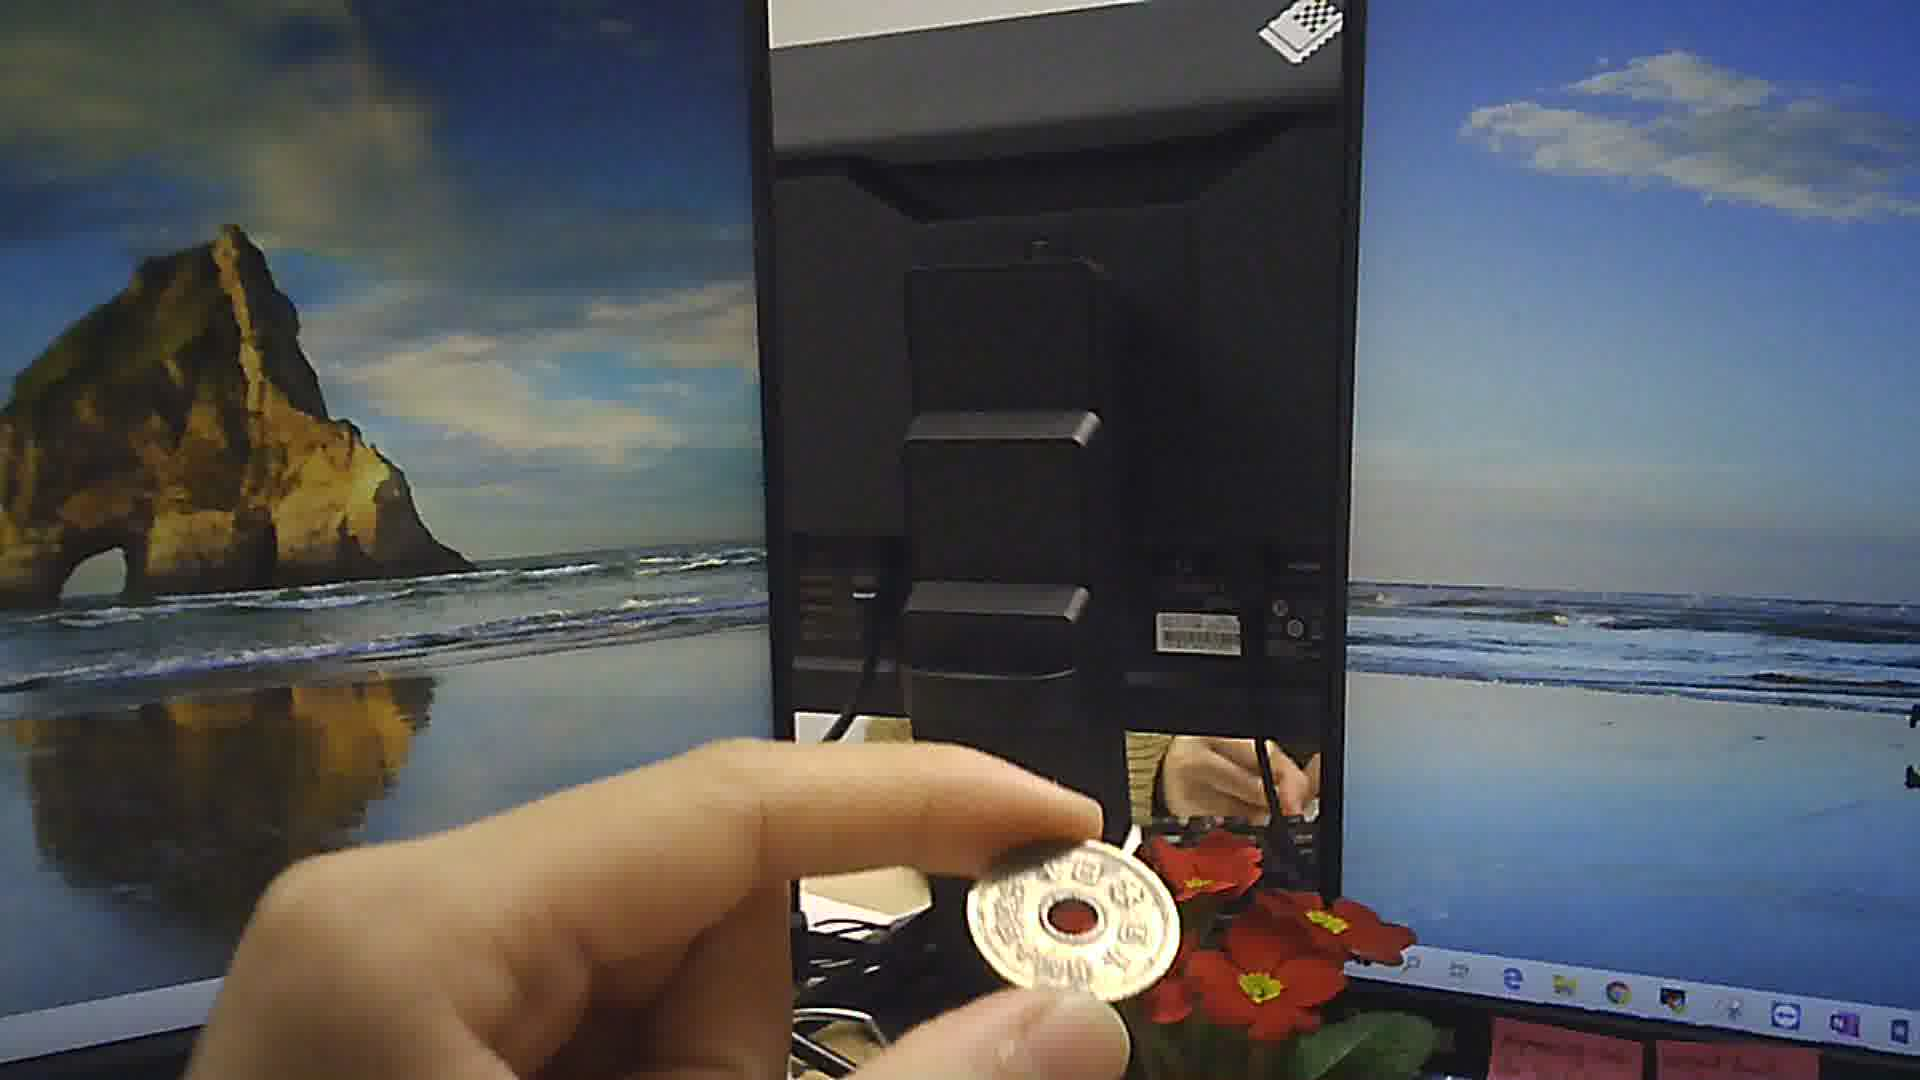5 Yen: (956, 829, 1179, 990)
